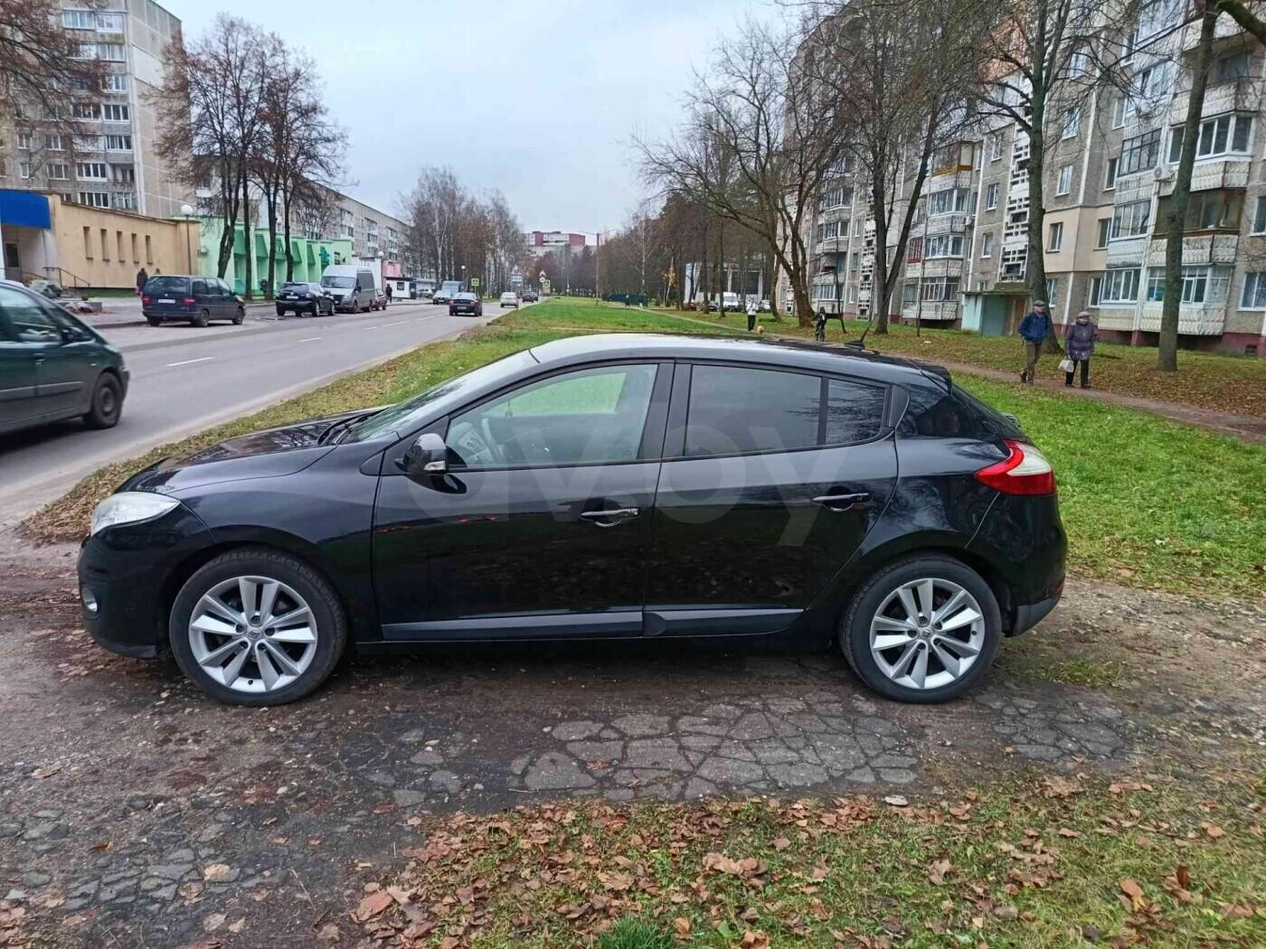Megane_2008-2014: (76, 321, 1074, 706)
